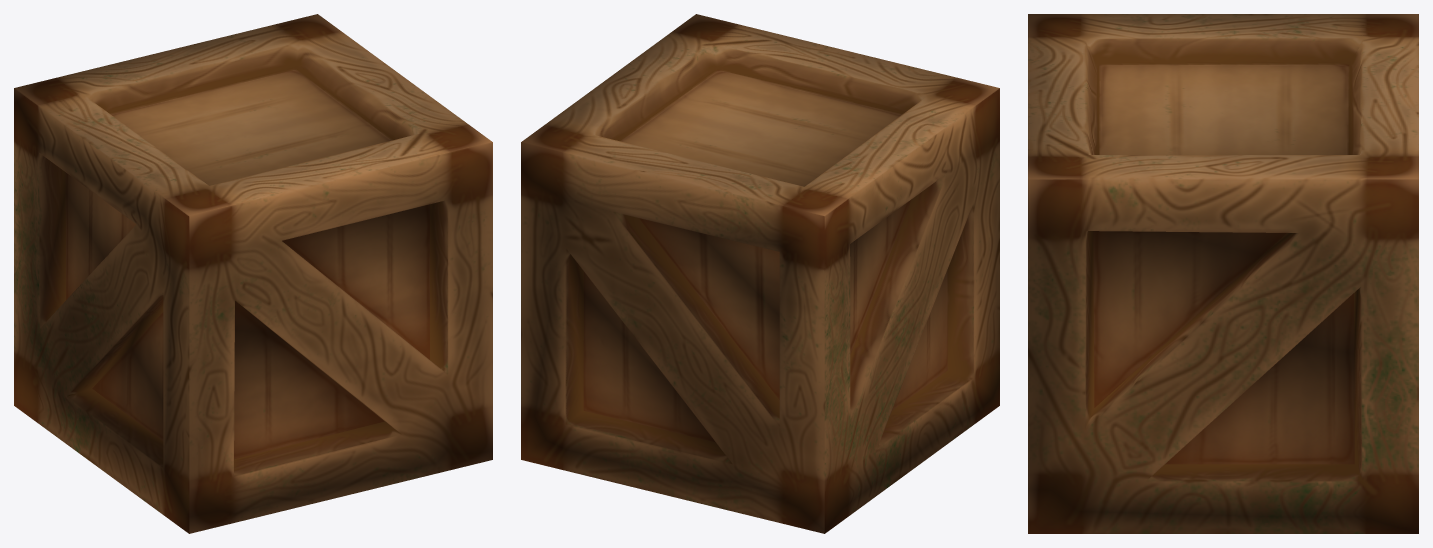
Rendered from stylized_crate_asset.glb.
3 views of the same model, side by side, from view 1: azimuth 30°, elevation 25°; view 2: azimuth 150°, elevation 25°; view 3: azimuth 270°, elevation 25° (orthographic). The views are drawn at different scales.
Visible parts, largest first — view 1: Kutija_low; view 2: Kutija_low; view 3: Kutija_low.
Part boxes in pixels (x1,y1,x2,y2): Kutija_low: (14,14,492,533); Kutija_low: (521,14,999,533); Kutija_low: (1028,14,1418,533).
Size of the model in its own units: 1.98 by 1.98 by 1.98.
1 material, 1 textured.
